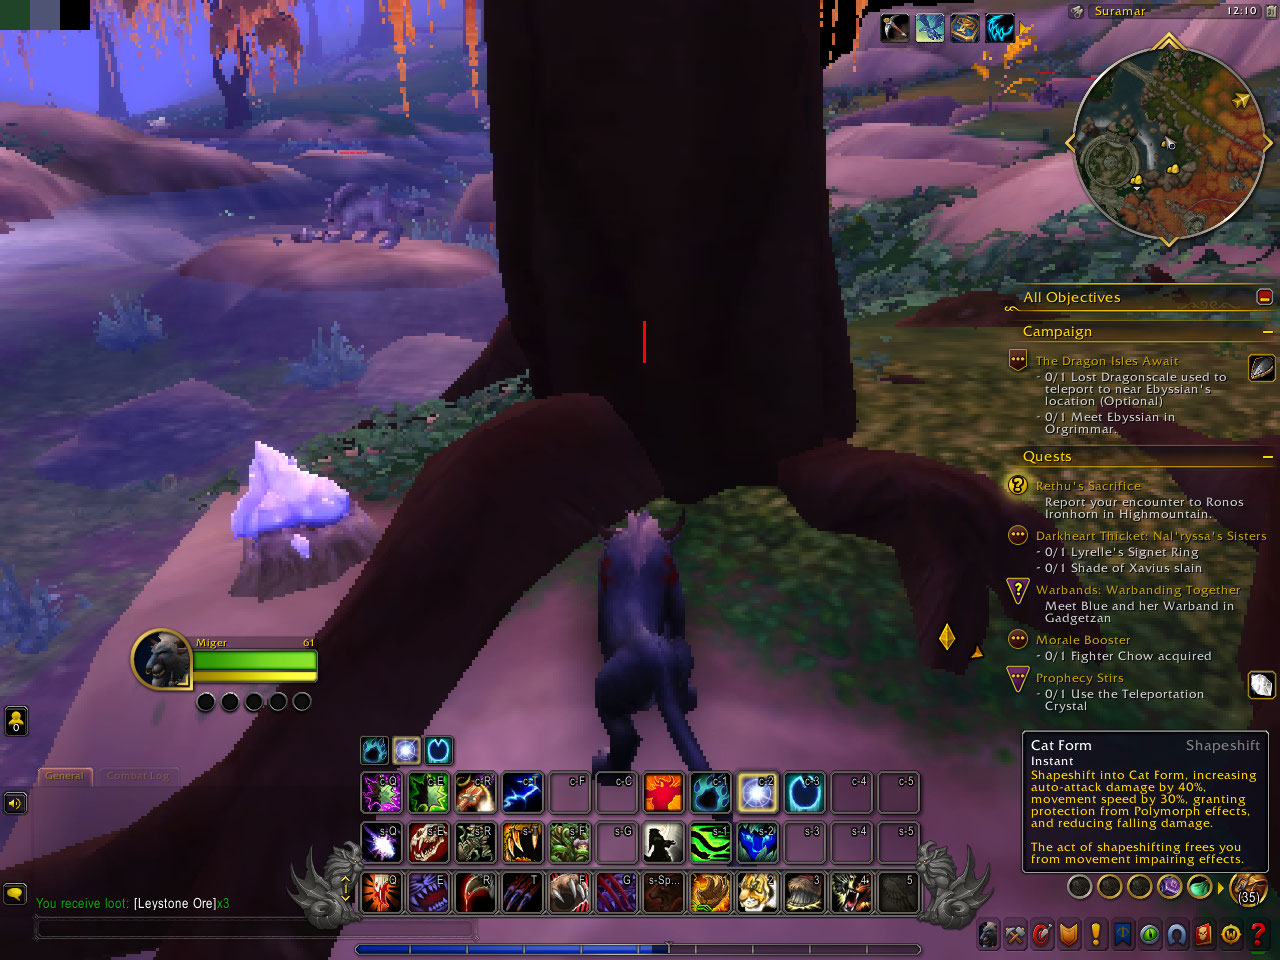ore: (226, 442, 384, 602)
